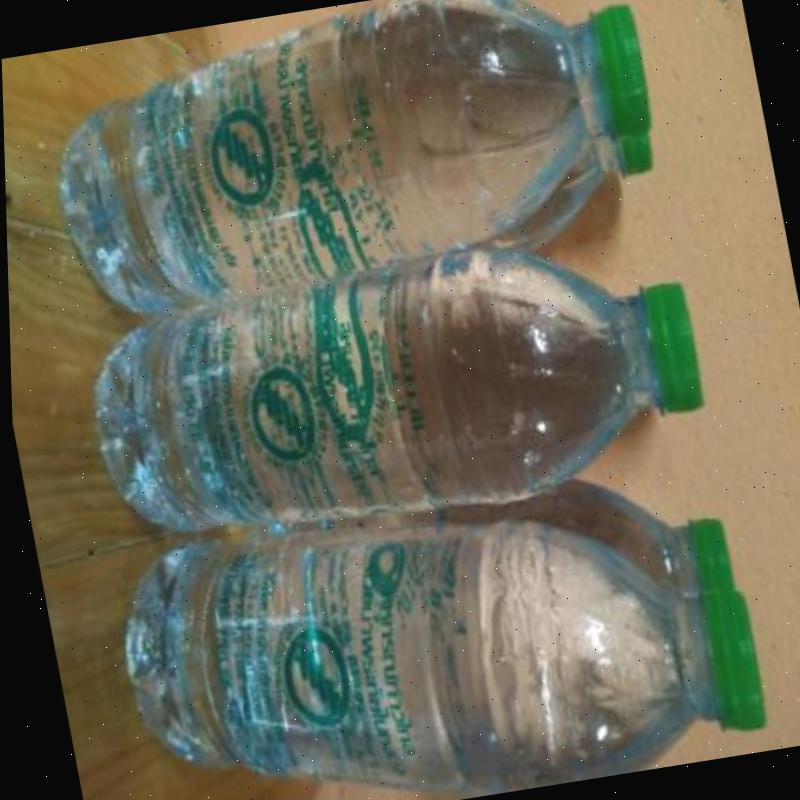botella: (58, 220, 716, 568), (99, 478, 768, 800), (29, 0, 674, 331), (498, 455, 733, 636), (443, 115, 662, 268)
